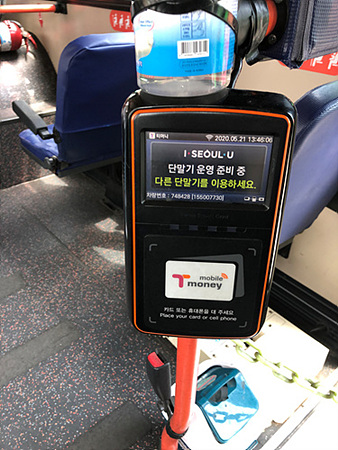terminal: (124, 86, 287, 337)
